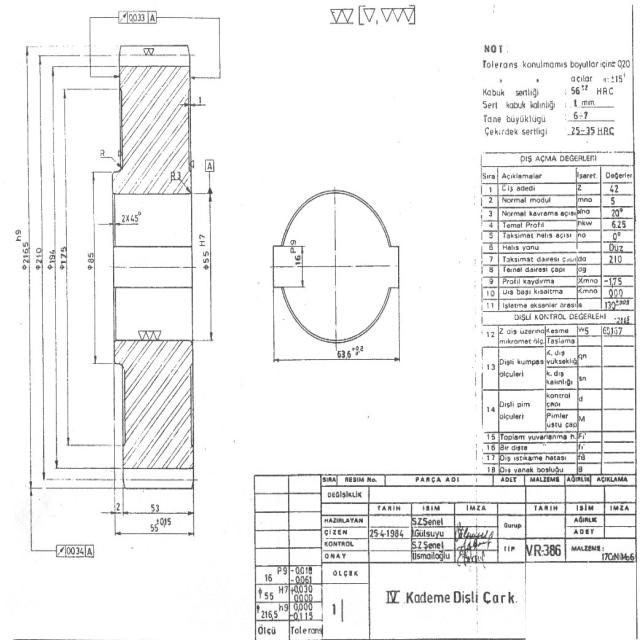Detail view: (264, 183, 409, 373)
Sectional view: (13, 7, 224, 564)
Table 1: (477, 150, 638, 476)
Table 2: (250, 470, 640, 640)
text1: (480, 43, 632, 143)
